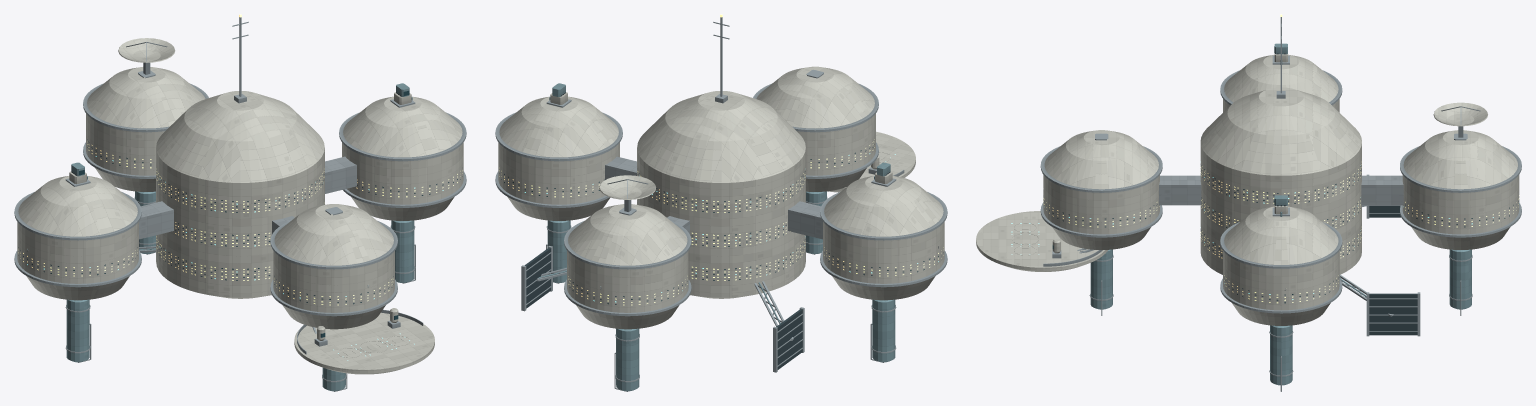
File: nacre.glb
The picture shows the model from 3 angles, left to right: view 1: azimuth 30°, elevation 25°; view 2: azimuth 150°, elevation 25°; view 3: azimuth 270°, elevation 25°; orthographic projection. The views are drawn at different scales.
Parts seen in each view (by area): view 1: nacre / armor, nacre / metal, nacre / copper, nacre / hull, nacre / warm, nacre / glass; view 2: nacre / armor, nacre / metal, nacre / copper, nacre / radiator, nacre / hull, nacre / warm, nacre / glass; view 3: nacre / armor, nacre / metal, nacre / copper, nacre / hull, nacre / radiator, nacre / warm.
Part boxes in pixels (<box>): nacre / armor: <box>17,38,463,374</box>; nacre / metal: <box>14,17,466,391</box>; nacre / copper: <box>66,83,414,391</box>; nacre / hull: <box>139,156,356,239</box>; nacre / warm: <box>18,14,462,305</box>; nacre / glass: <box>18,90,462,337</box>; nacre / armor: <box>498,66,944,329</box>; nacre / metal: <box>495,17,947,391</box>; nacre / copper: <box>538,83,895,391</box>; nacre / radiator: <box>524,248,802,369</box>; nacre / hull: <box>605,156,822,239</box>; nacre / warm: <box>499,14,943,305</box>; nacre / glass: <box>499,144,943,304</box>; nacre / armor: <box>976,54,1519,325</box>; nacre / metal: <box>1040,17,1521,391</box>; nacre / copper: <box>1090,43,1471,385</box>; nacre / hull: <box>1159,175,1403,205</box>; nacre / radiator: <box>1369,206,1417,335</box>; nacre / warm: <box>1043,14,1519,303</box>.
Bounding box in the file's own units: 155 × 105 × 176.
Materials: 9 (3 with a texture image).
